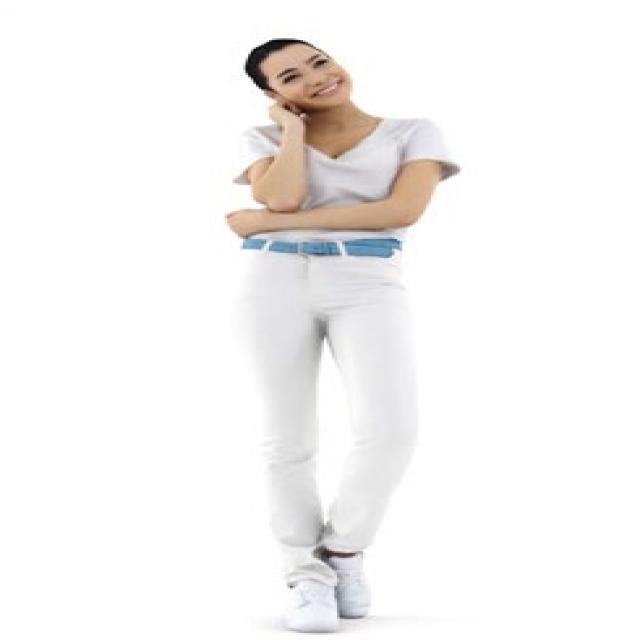standing: (219, 34, 463, 634)
